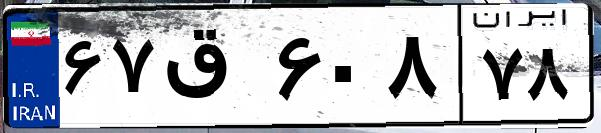0: (330, 28, 385, 110)
6: (270, 28, 330, 110), (57, 26, 110, 100)
7: (475, 38, 525, 113), (110, 28, 158, 98)
8: (385, 28, 445, 110), (525, 38, 570, 115)
ق: (158, 20, 270, 120)
